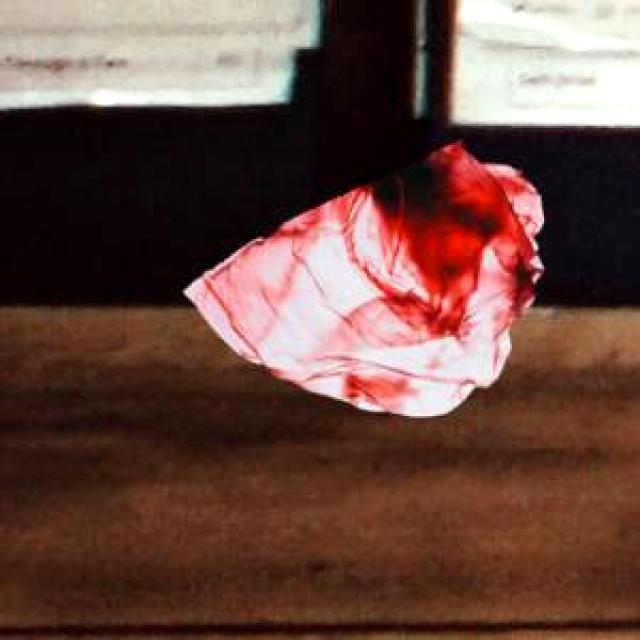Plastic_Bag: (182, 138, 541, 412)
